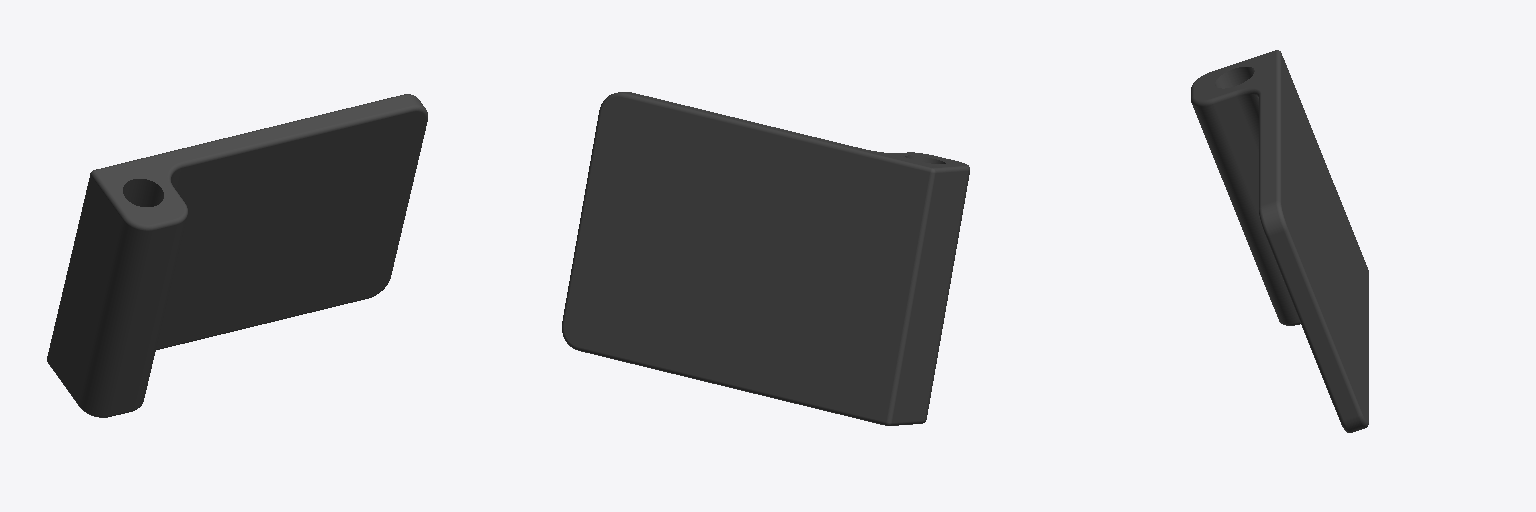
The model's file is left_flap_visual.obj.
3 views of the same model, side by side, from view 1: azimuth 30°, elevation 25°; view 2: azimuth 150°, elevation 25°; view 3: azimuth 270°, elevation 25° (orthographic).
Visible parts, largest first — view 1: left_flap_visual.001; view 2: left_flap_visual.001; view 3: left_flap_visual.001.
Boxes of the visible parts, <box> form: left_flap_visual.001: <box>47,94,427,417</box>; left_flap_visual.001: <box>562,92,969,425</box>; left_flap_visual.001: <box>1191,50,1368,432</box>.
Size of the model in its own units: 0.2032 by 0.1473 by 0.0942.